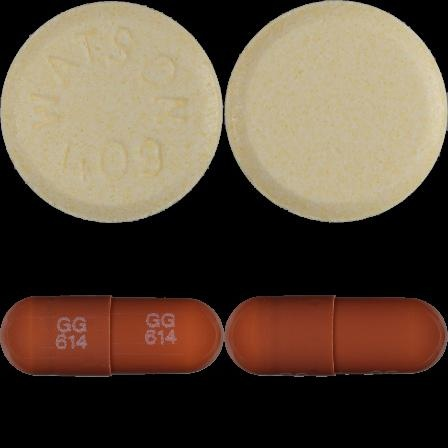21695-331: (0, 0, 224, 224)
